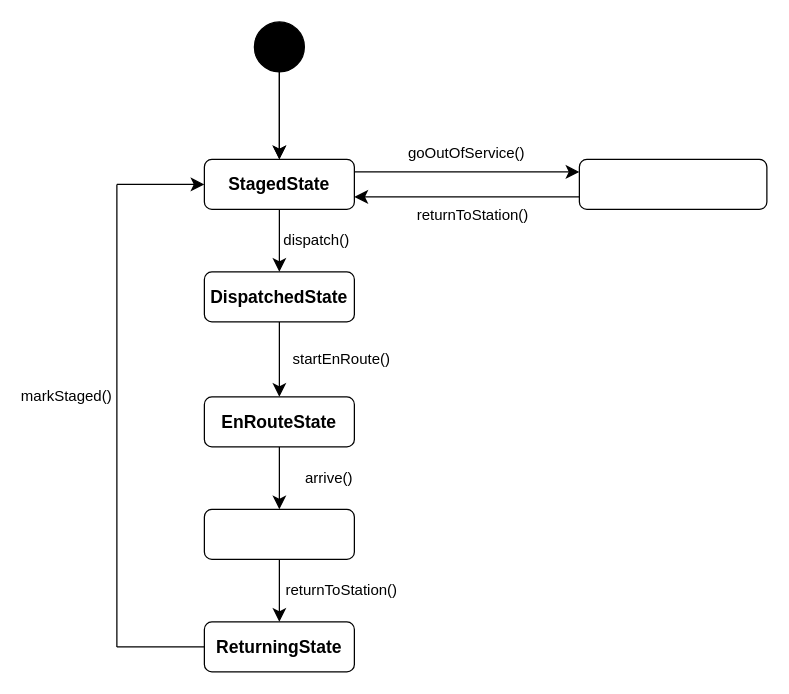
The diagram is 789 pixels wide and 694 high, and some of its shapes have lost their labels. Here are the shapes that lost their labels. From the top down, the centre of each, then its label:
pixel 672 183: OutOfServiceState
pixel 278 533: OnSceneState
